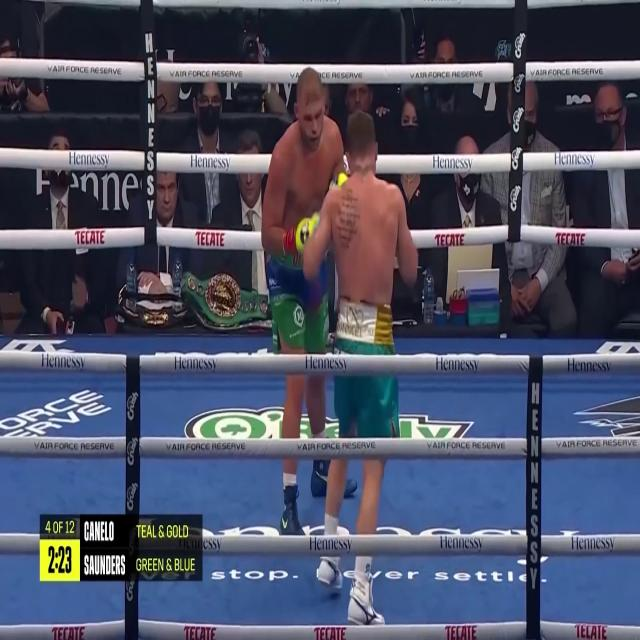boxer_1: (262, 72, 344, 255)
boxer_2: (304, 110, 418, 304)
gloves_1: (283, 210, 320, 255), (330, 170, 348, 186)
